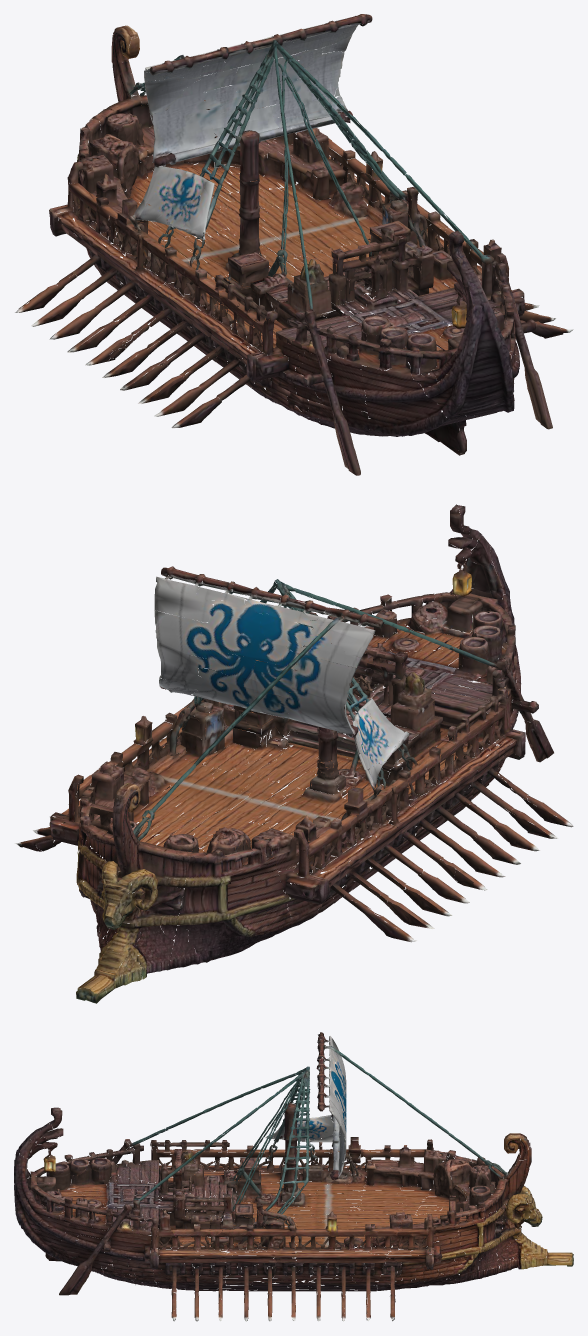
Rendered from full-boat.glb.
3 renders of one model, top to bottom at view 1: azimuth 30°, elevation 25°; view 2: azimuth 150°, elevation 25°; view 3: azimuth 270°, elevation 25°, orthographic. The views are drawn at different scales.
Visible parts, largest first — view 1: tripo_node_02b50d2a-160b-4bb5-9f90-fc61354bcf5a; view 2: tripo_node_02b50d2a-160b-4bb5-9f90-fc61354bcf5a; view 3: tripo_node_02b50d2a-160b-4bb5-9f90-fc61354bcf5a.
Boxes of the visible parts, left/top/right/bottom form: tripo_node_02b50d2a-160b-4bb5-9f90-fc61354bcf5a: left=15, top=14, right=573, bottom=475; tripo_node_02b50d2a-160b-4bb5-9f90-fc61354bcf5a: left=14, top=504, right=573, bottom=1003; tripo_node_02b50d2a-160b-4bb5-9f90-fc61354bcf5a: left=14, top=1032, right=573, bottom=1321.
Size of the model in its own units: 0.5668 by 0.3792 by 0.9782.
Materials: 1 (1 with a texture image).
